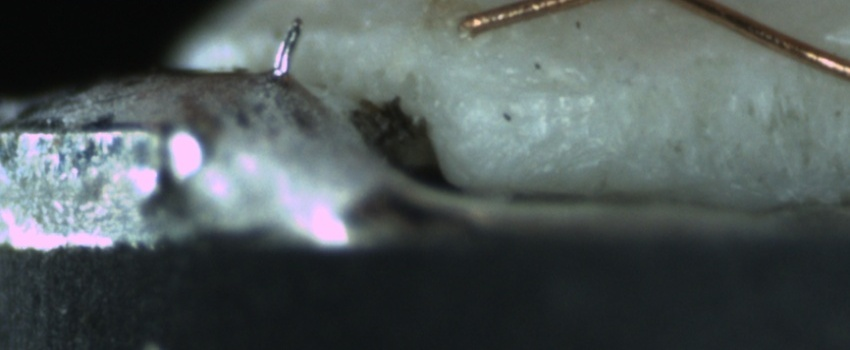DL: (490, 73, 604, 118)
